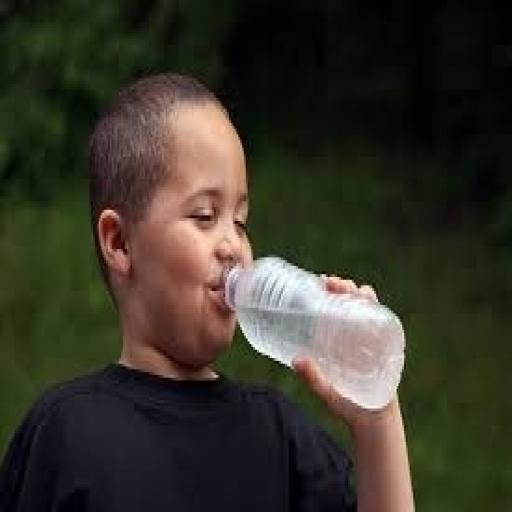drinking: (79, 38, 406, 412)
